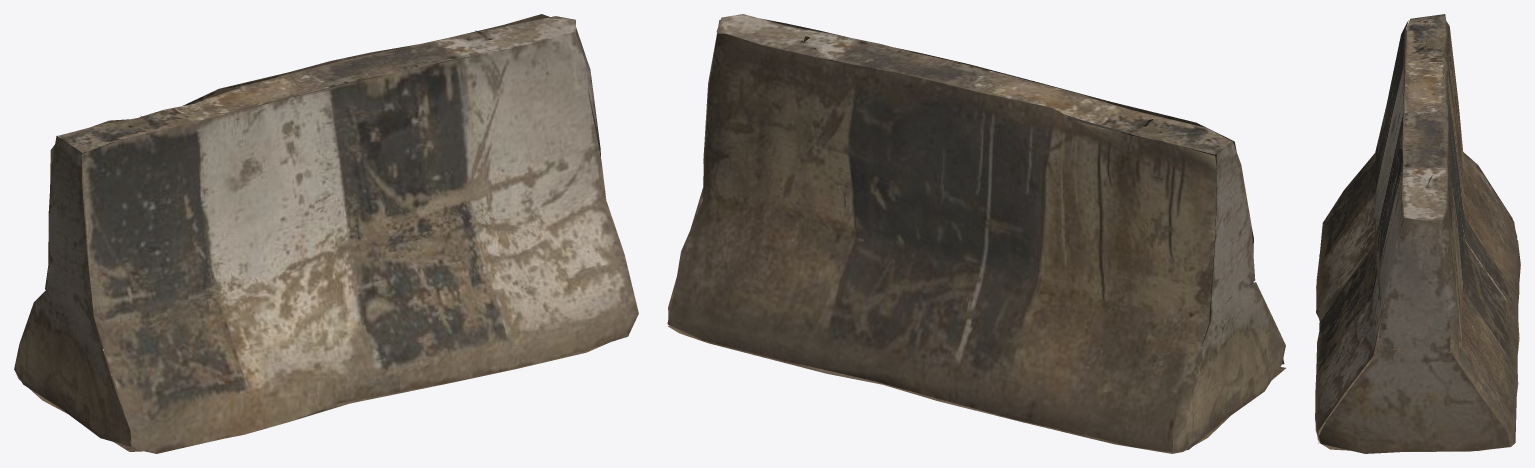
The model's file is concrete_road_barrier.glb.
The picture shows the model from 3 angles, left to right: view 1: azimuth 30°, elevation 25°; view 2: azimuth 150°, elevation 25°; view 3: azimuth 270°, elevation 25°; orthographic projection. The views are drawn at different scales.
Parts seen in each view (by area): view 1: concrete_road_barrier; view 2: concrete_road_barrier; view 3: concrete_road_barrier.
Boxes of the visible parts, x1,y1,x2,y2 form: concrete_road_barrier: (14,14,638,453); concrete_road_barrier: (667,14,1285,453); concrete_road_barrier: (1315,14,1520,453).
Bounding box in the file's own units: 1.55 × 0.8223 × 0.6357.
1 material, 1 textured.
